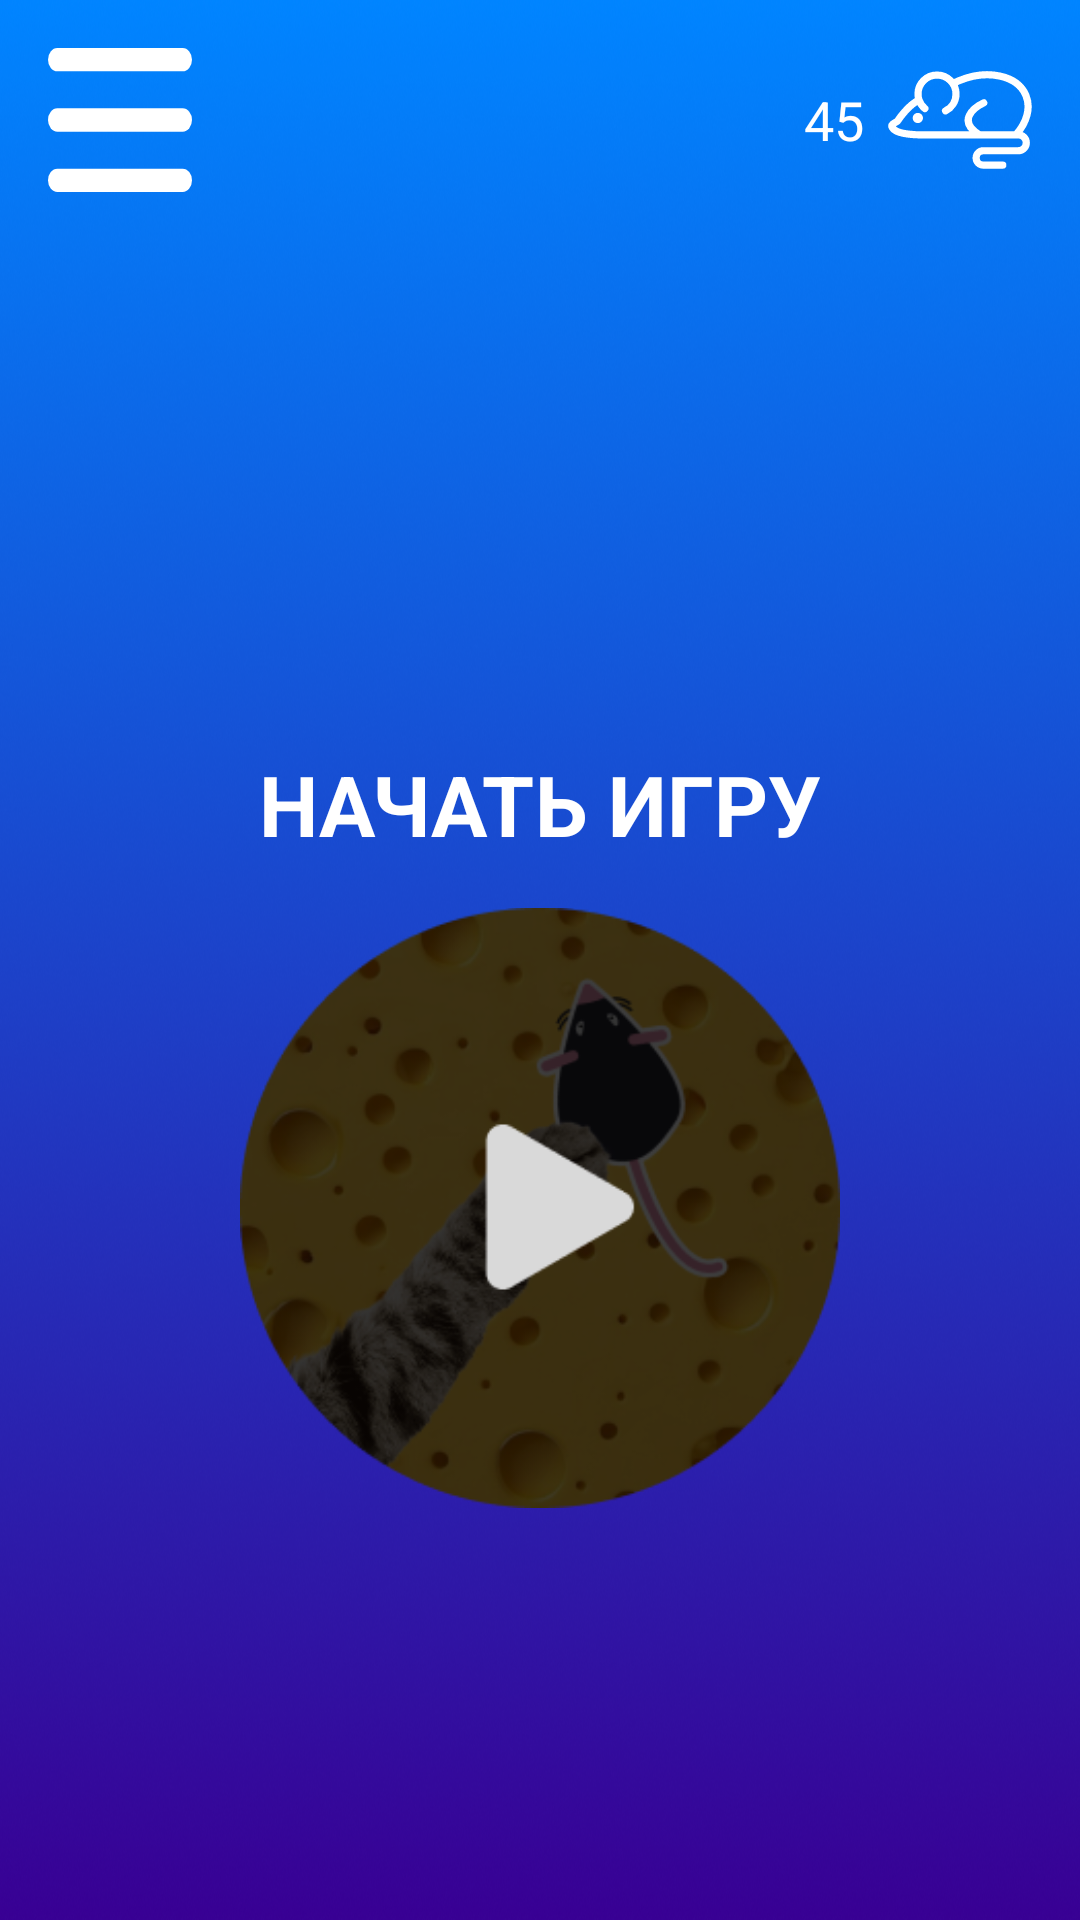

Icon bounding boxes for this 1080px×1920px phone screenshot, format (x1, y1, x2, y2):
menu: (48, 48, 192, 192)
mouse: (888, 71, 1032, 169)
